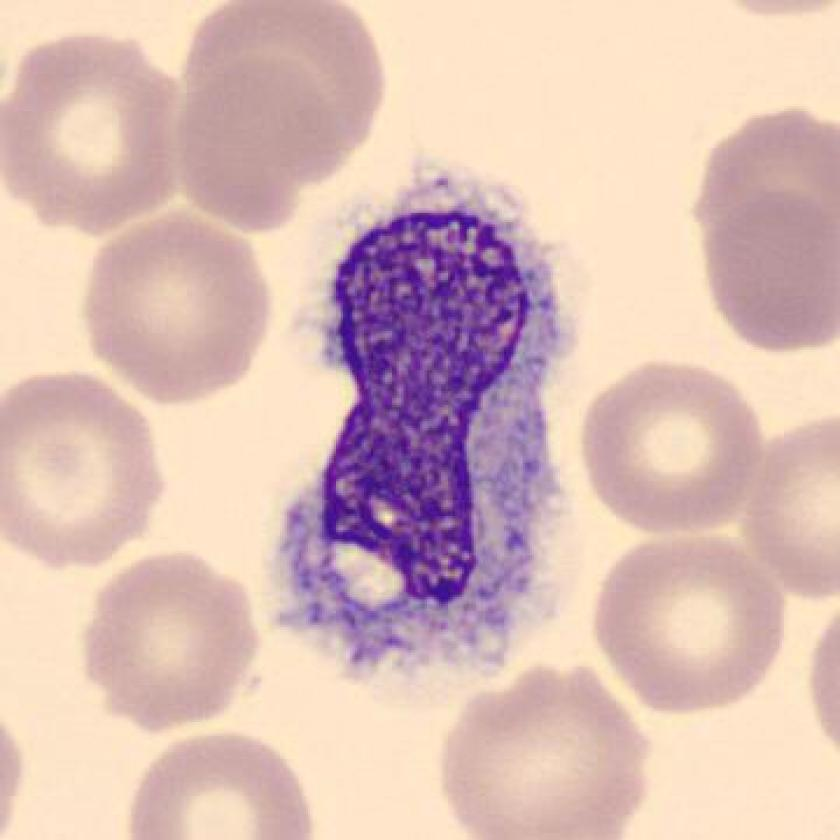monocyte: (241, 149, 603, 712)
